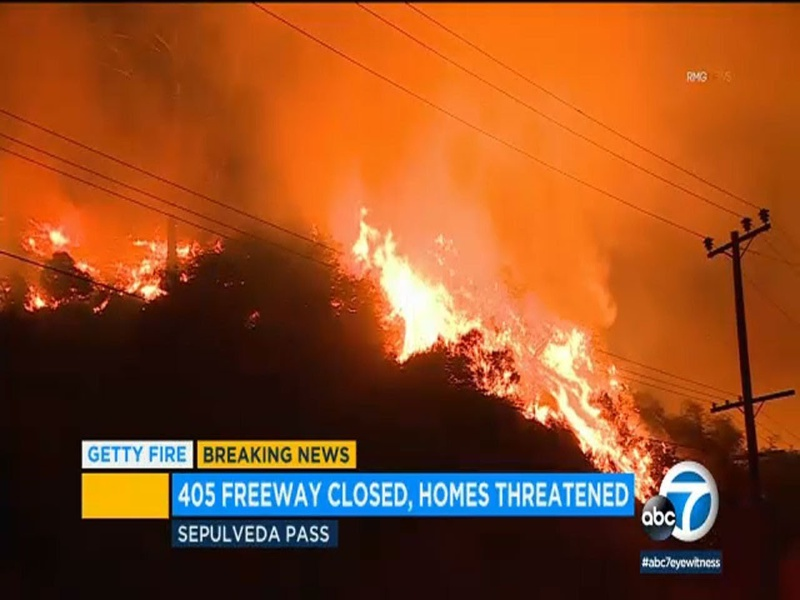fire: (389, 258, 452, 365), (535, 323, 607, 377), (124, 231, 173, 308), (596, 399, 655, 461), (561, 382, 601, 455)
